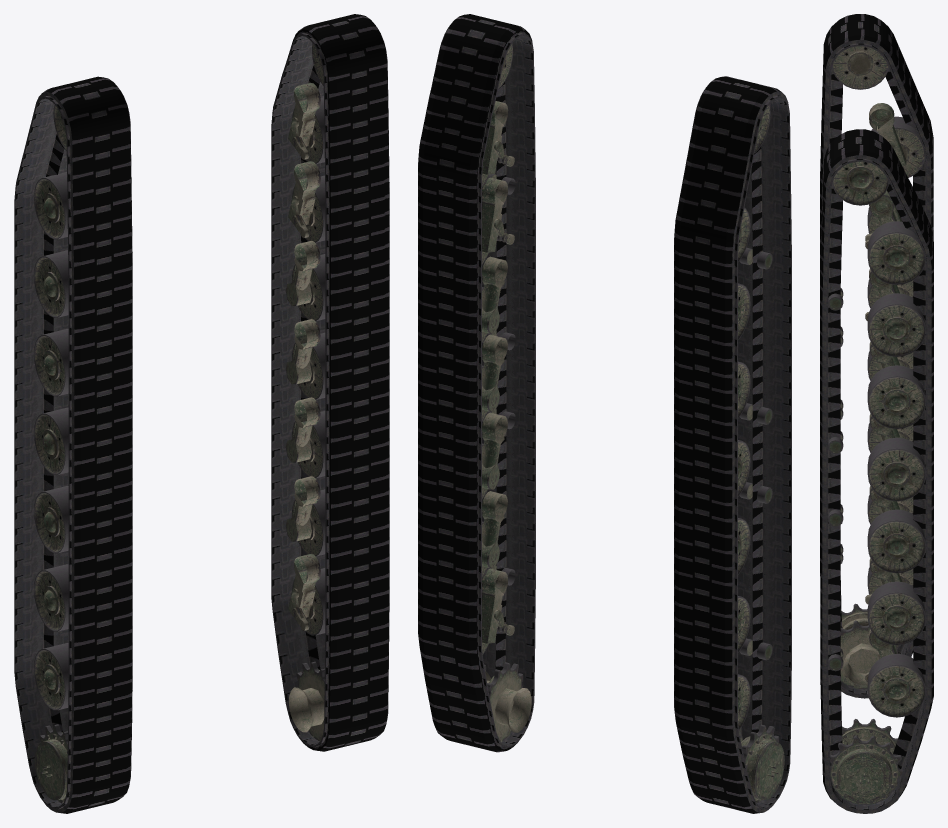
File: Chassis.glb
3 views of the same model, side by side, from view 1: azimuth 30°, elevation 25°; view 2: azimuth 150°, elevation 25°; view 3: azimuth 270°, elevation 25° (orthographic). The views are drawn at different scales.
Parts seen in each view (by area): view 1: set_1_group_0, set_0_group_0, set_3_group_0, set_2_group_0; view 2: set_1_group_0, set_0_group_0, set_3_group_0, set_2_group_0; view 3: set_3_group_0, set_0_group_0, set_2_group_0, set_1_group_0.
Boxes of the visible parts, x1,y1,x2,y2 form: set_1_group_0: (14,76,132,813); set_0_group_0: (271,14,389,751); set_3_group_0: (285,43,325,741); set_2_group_0: (34,105,68,803); set_1_group_0: (674,76,791,813); set_0_group_0: (418,14,535,752); set_3_group_0: (482,43,531,742); set_2_group_0: (738,104,784,803); set_3_group_0: (828,161,925,804); set_0_group_0: (820,129,933,813); set_2_group_0: (832,46,924,689); set_1_group_0: (820,14,933,698).
Size of the model in its own units: 3.45 by 7.21 by 1.12.
Materials: 4 (4 with a texture image).
